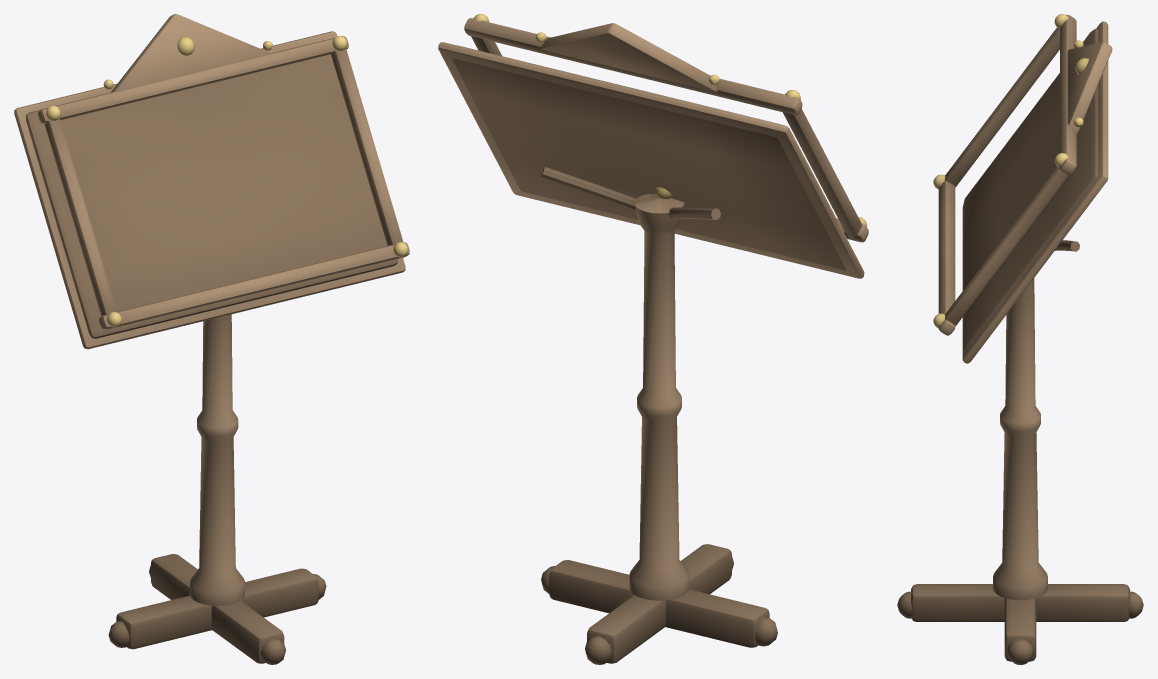
The model's file is obj_kit_sign.glb.
The picture shows the model from 3 angles, left to right: view 1: azimuth 30°, elevation 25°; view 2: azimuth 150°, elevation 25°; view 3: azimuth 270°, elevation 25°; orthographic projection. The views are drawn at different scales.
Visible parts, largest first — view 1: Cube.002, post, Cube.003, Cube, Cylinder, Cube.005, Cube.004, Cube.001, Cube.006, Cube.007; view 2: Cube.002, post, Cube.003, Cube, Cylinder, Cube.001, Cube.004, Cube.007, arm, arm.001; view 3: Cube.002, post, Cube.001, Cube.003, Cube.006, Cube.007, Cube.005, Cylinder, Cube.004, Cube, Sphere.
Part boxes in pixels (x1,y1,x2,y2): Cube.002: (26,54,397,338); post: (190,314,244,605); Cube.003: (14,31,405,349); Cube: (116,568,318,649); Cylinder: (111,14,270,92); Cube.005: (99,242,409,329); Cube.004: (38,36,348,123); Cube.001: (151,554,284,663); Cube.006: (331,48,403,245); Cube.007: (44,118,116,316); Cube.002: (452,45,846,270); post: (629,193,689,600); Cube.003: (438,42,864,278); Cube: (549,560,769,647); Cylinder: (540,23,717,91); Cube.001: (587,544,731,663); Cube.004: (464,18,802,115); Cube.007: (783,109,861,240); arm: (541,167,640,210); arm.001: (668,207,720,220); Cube.002: (963,28,1098,350); post: (993,278,1047,600); Cube.001: (911,584,1129,621); Cube.003: (962,21,1108,363); Cube.006: (945,166,1069,326); Cube.007: (945,27,1059,187); Cube.005: (938,181,955,335); Cylinder: (1067,42,1112,133); Cube.004: (1060,14,1076,175); Cube: (1004,598,1036,661); Sphere: (1007,639,1033,664).
Size of the model in its own units: 0.81 by 1.39 by 0.54.
